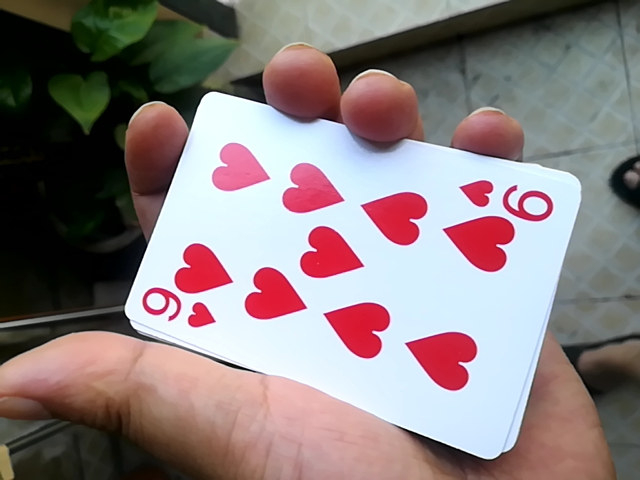hx 9: (110, 81, 588, 457)
